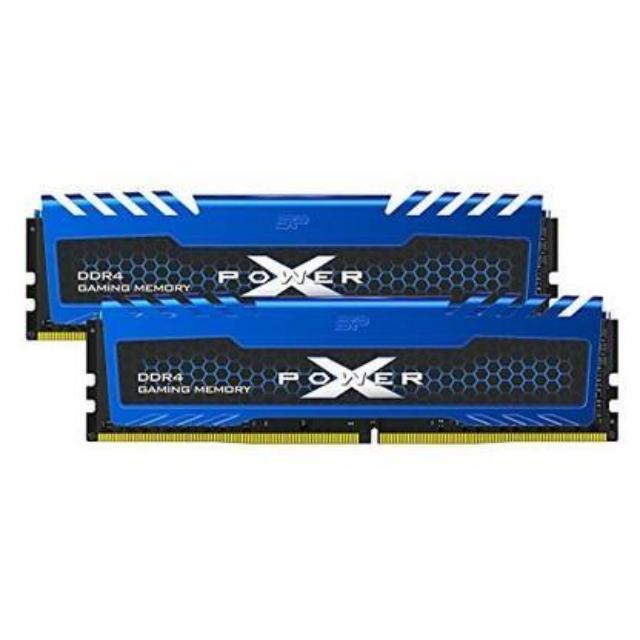RAM: (14, 176, 638, 470)
